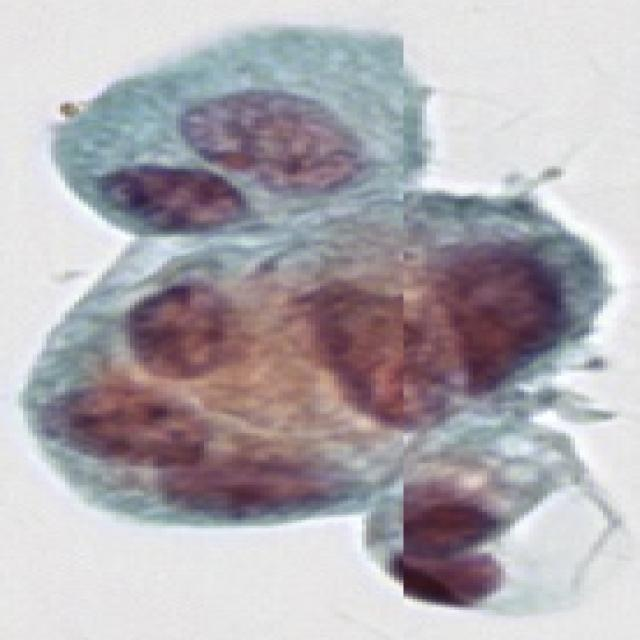cytoplasm: (45, 13, 451, 246)
nucleus: (172, 55, 391, 229), (95, 159, 257, 241)
